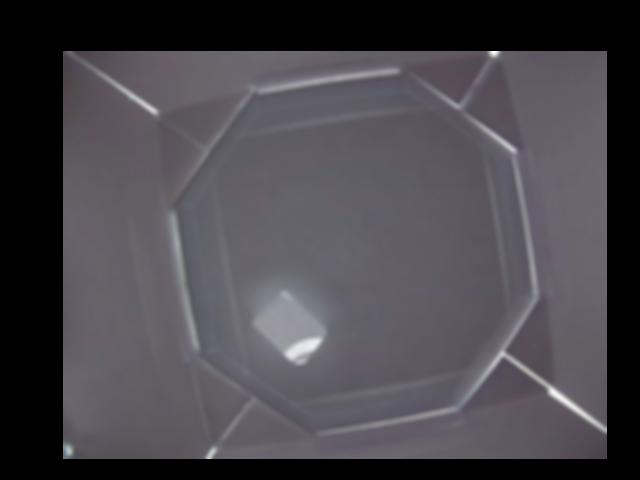China: (251, 291, 327, 365)
